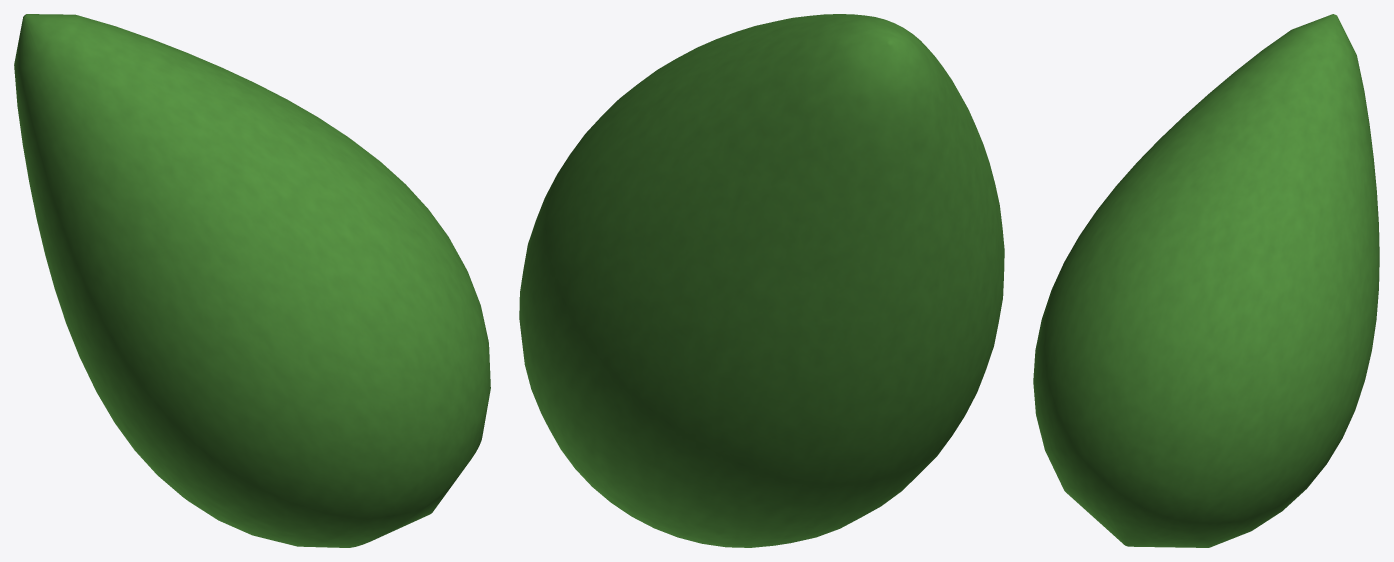
3 views of the same model, side by side, from view 1: azimuth 30°, elevation 25°; view 2: azimuth 150°, elevation 25°; view 3: azimuth 270°, elevation 25° (orthographic). The views are drawn at different scales.
Parts seen in each view (by area): view 1: Dense toxic sludge droplet; view 2: Dense toxic sludge droplet; view 3: Dense toxic sludge droplet.
Boxes of the visible parts, x1,y1,x2,y2 form: Dense toxic sludge droplet: [14, 14, 490, 547]; Dense toxic sludge droplet: [519, 14, 1004, 547]; Dense toxic sludge droplet: [1033, 14, 1379, 547].
Size of the model in its own units: 0.8102 by 1.04 by 0.7544.
Materials: 1 (1 with a texture image).
